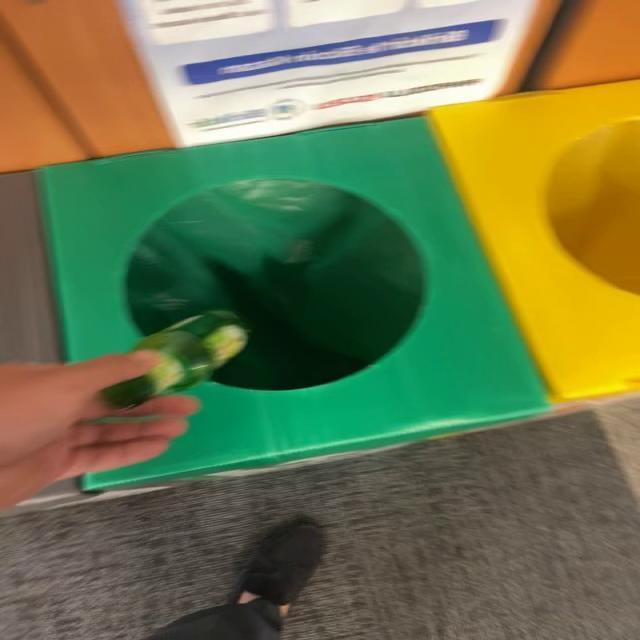Glass: (101, 311, 248, 408)
